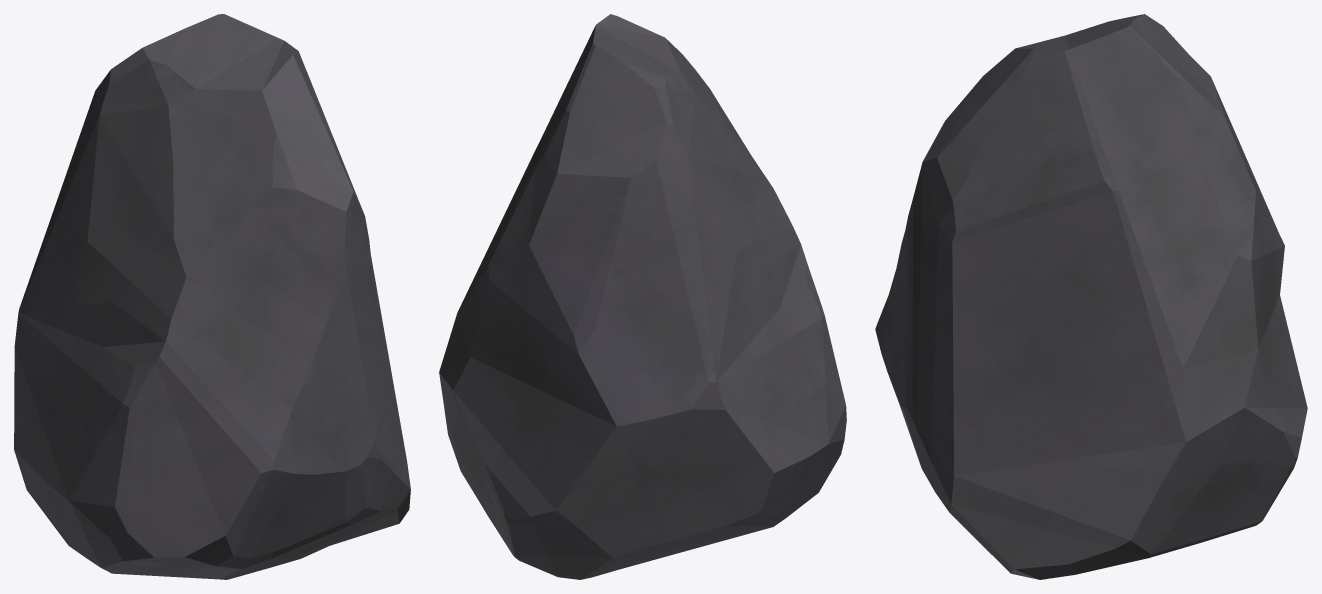
File: rock 02.fbx
The picture shows the model from 3 angles, left to right: view 1: azimuth 30°, elevation 25°; view 2: azimuth 150°, elevation 25°; view 3: azimuth 270°, elevation 25°; orthographic projection. The views are drawn at different scales.
Visible parts, largest first — view 1: polySurface2; view 2: polySurface2; view 3: polySurface2.
Boxes of the visible parts, <box> form: polySurface2: <box>14,14,410,579</box>; polySurface2: <box>439,14,846,579</box>; polySurface2: <box>875,14,1307,579</box>.
Size of the model in its own units: 9.7 by 13.81 by 10.45.
